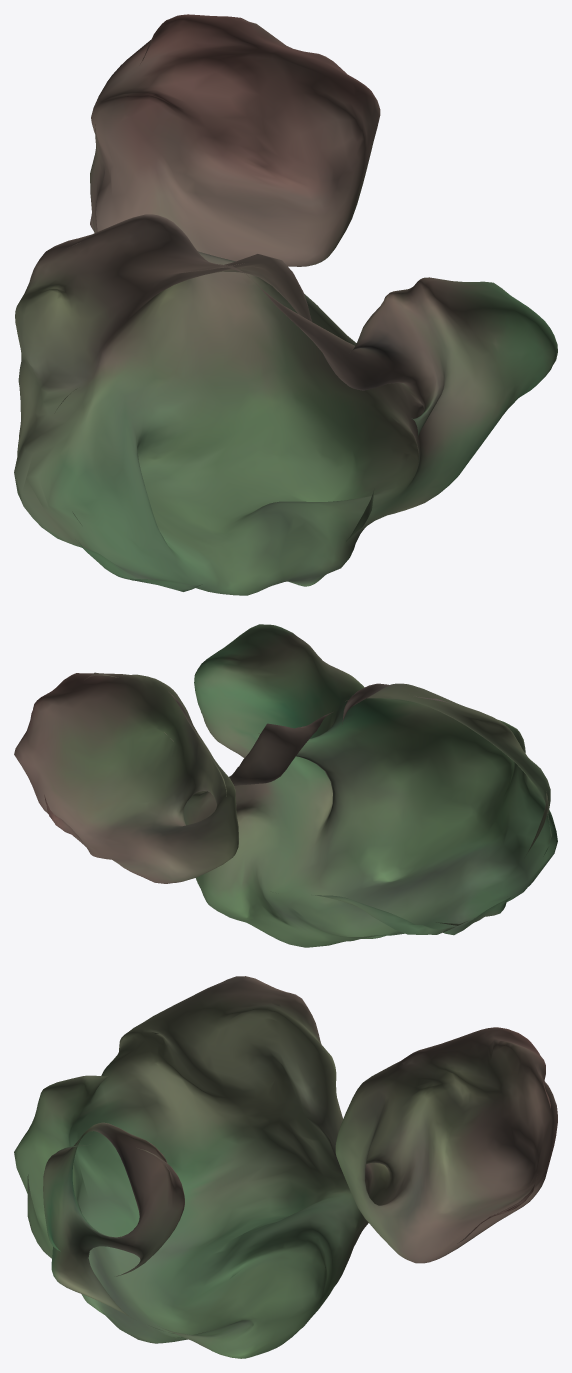
Rendered from Cloud1_LOD1.glb.
The picture shows the model from 3 angles, top to bottom: view 1: azimuth 30°, elevation 25°; view 2: azimuth 150°, elevation 25°; view 3: azimuth 270°, elevation 25°; orthographic projection. The views are drawn at different scales.
Visible parts, largest first — view 1: Cloud1_LOD1; view 2: Cloud1_LOD1; view 3: Cloud1_LOD1.
Part boxes in pixels (left/top/right/bottom): Cloud1_LOD1: left=14, top=14, right=557, bottom=595; Cloud1_LOD1: left=14, top=624, right=557, bottom=947; Cloud1_LOD1: left=14, top=976, right=557, bottom=1358.
Bounding box in the file's own units: 0.8972 × 0.7093 × 0.9985.
